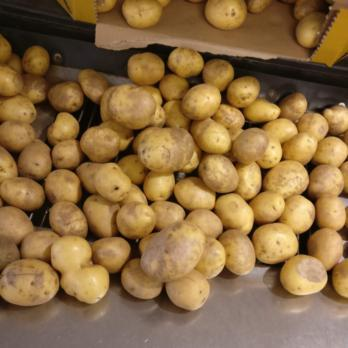Solid potato: (0, 35, 112, 315), (118, 53, 235, 307), (238, 75, 348, 295)
